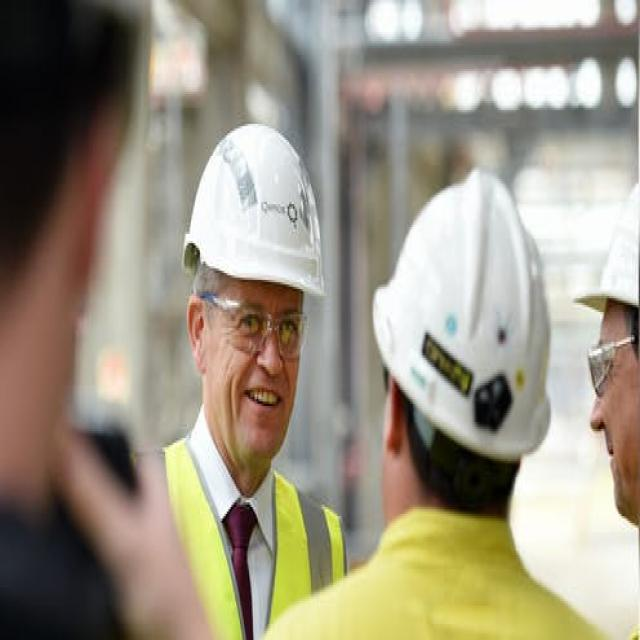Reflective-Jacket: (155, 431, 343, 640)
Safety-Helmet: (369, 168, 557, 461), (179, 115, 329, 305), (574, 147, 640, 351)
